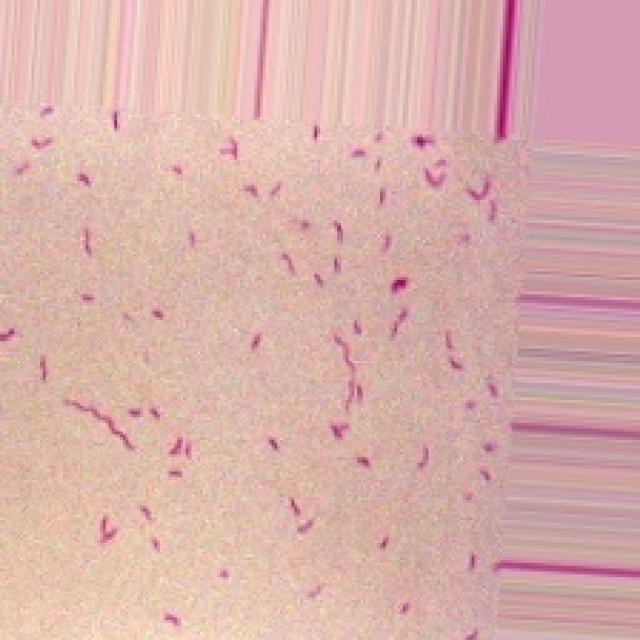Spiral_bacteria: (0, 94, 531, 637)
